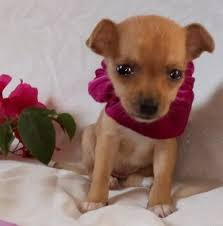chihuahua: (68, 9, 218, 226)
